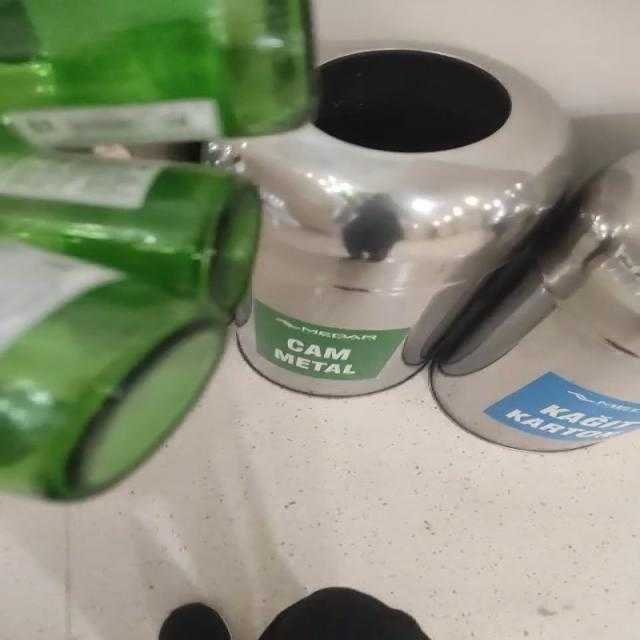cups: (200, 43, 575, 397), (0, 146, 262, 502), (0, 0, 317, 156)
